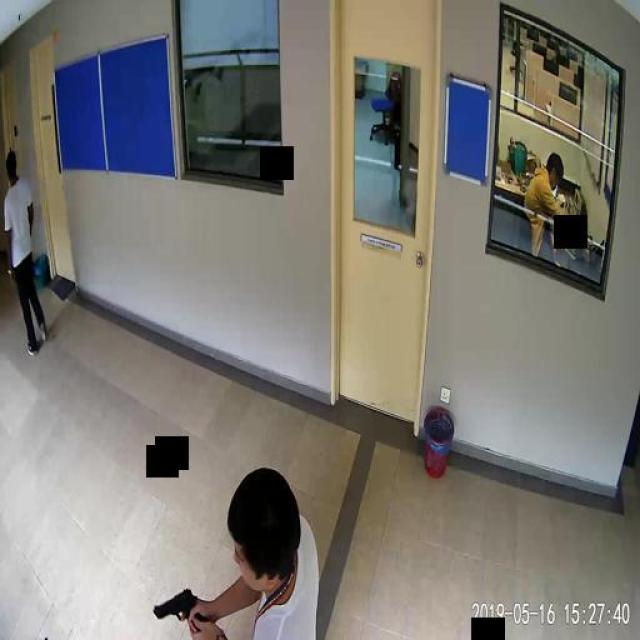gun: (152, 586, 202, 630)
